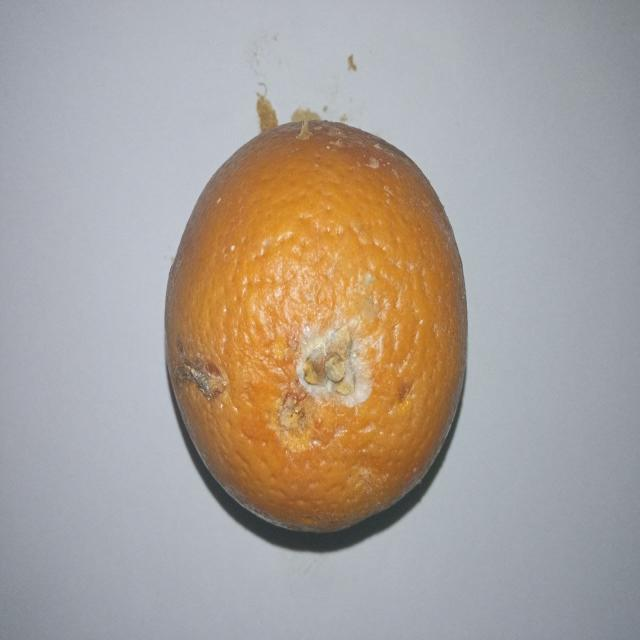rotten_orange: (164, 121, 465, 535)
